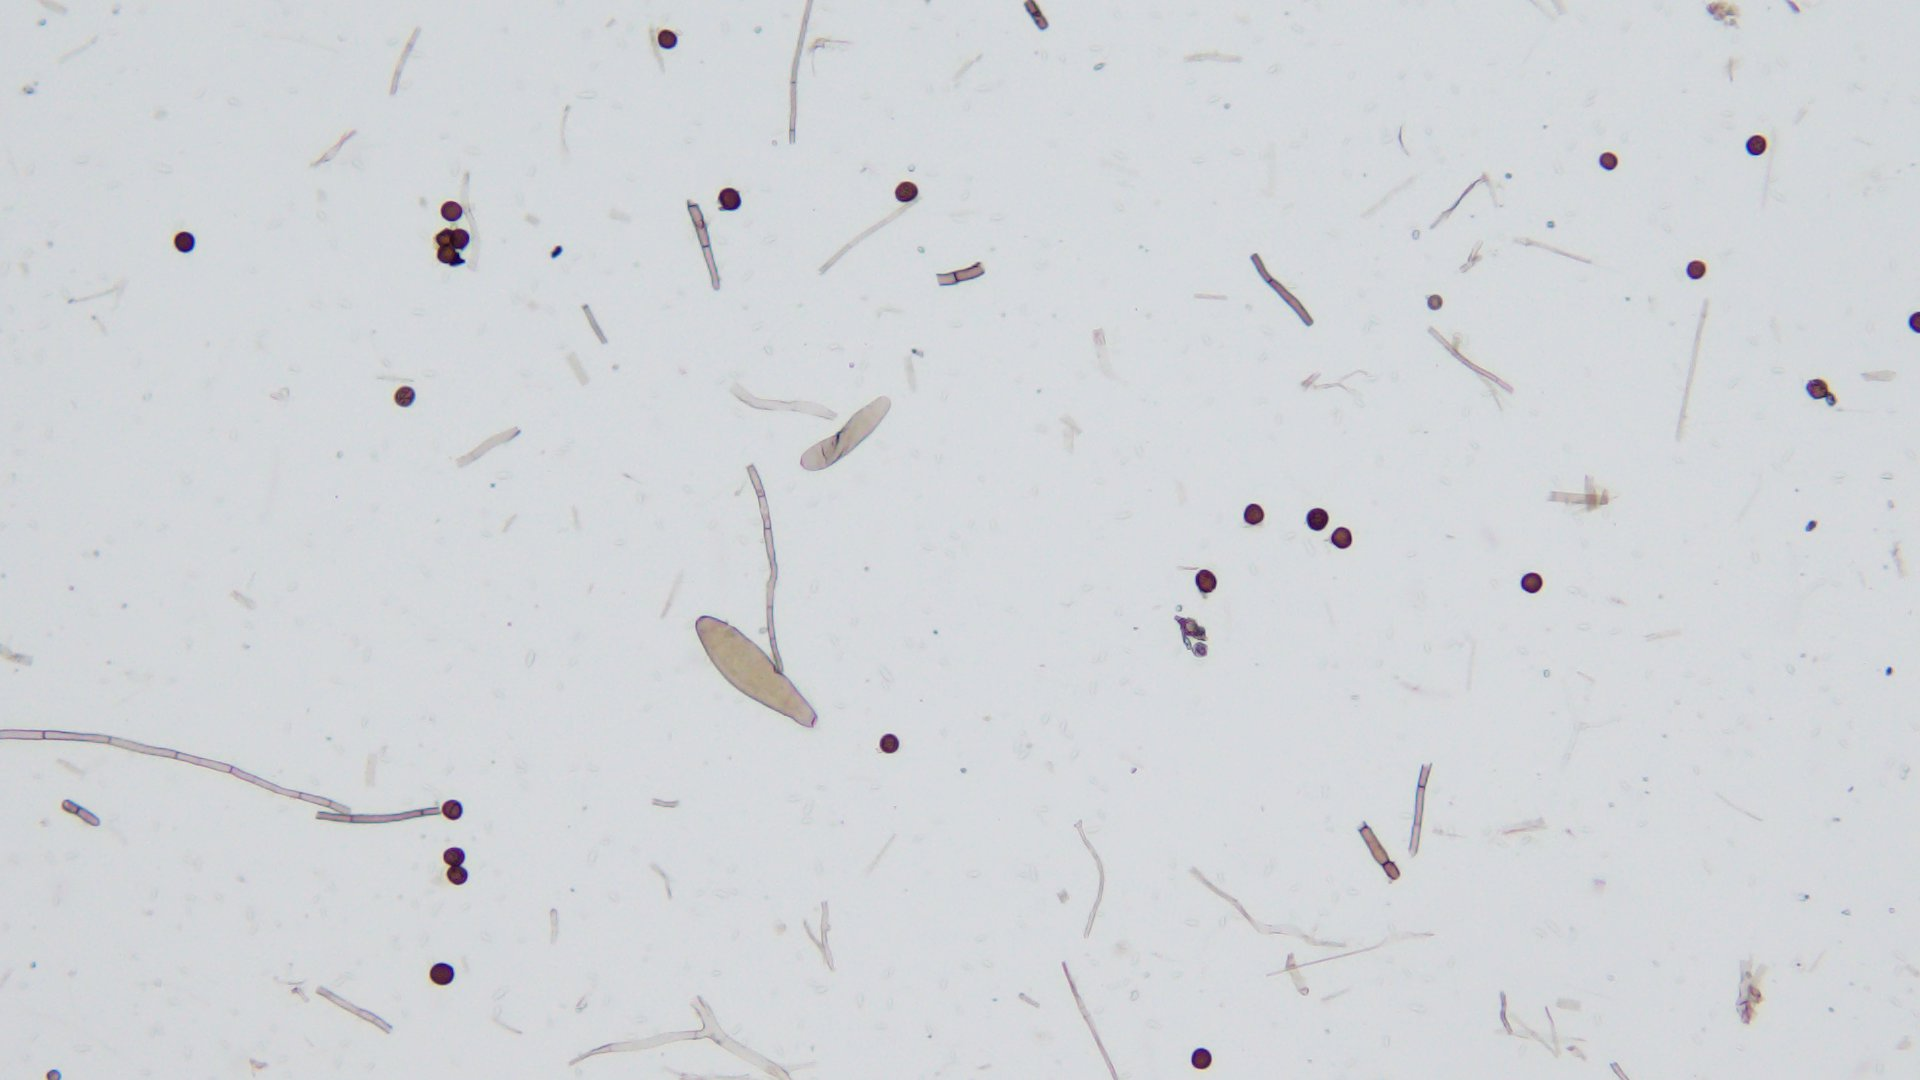dbb_spore: (692, 616, 818, 729), (799, 397, 891, 477)
shs_spore: (170, 229, 196, 255), (893, 179, 919, 204), (717, 189, 742, 214), (1303, 506, 1328, 531), (1193, 567, 1217, 593), (430, 963, 456, 985), (440, 198, 464, 222), (392, 385, 415, 407), (1807, 378, 1830, 401), (434, 243, 459, 264), (440, 847, 467, 866), (1519, 574, 1545, 593), (1745, 135, 1767, 157), (1189, 1047, 1212, 1069), (440, 798, 462, 822), (447, 228, 469, 249), (877, 733, 899, 754), (1242, 502, 1265, 524), (443, 869, 469, 886), (1332, 527, 1353, 549), (1687, 258, 1706, 281), (1600, 152, 1619, 171)
